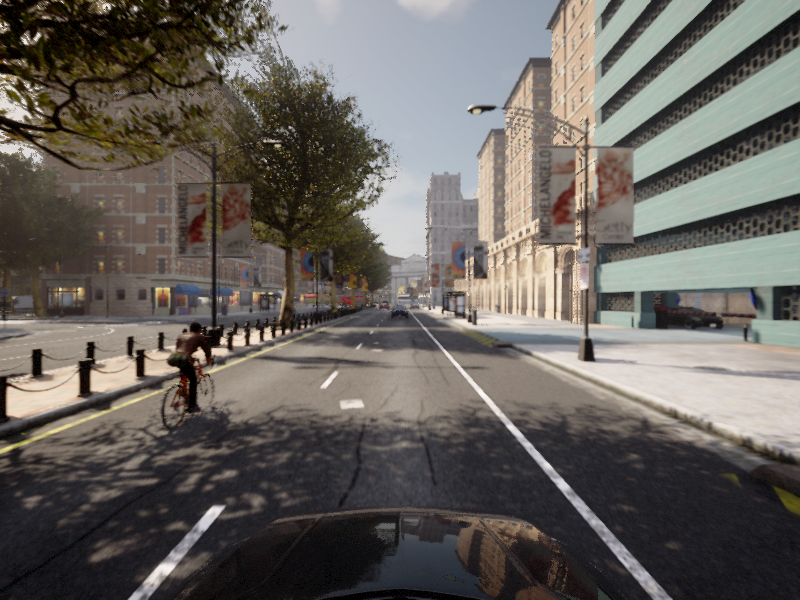vehicle: (1, 1, 799, 599), (141, 320, 229, 436), (391, 305, 408, 318), (287, 303, 299, 318)
